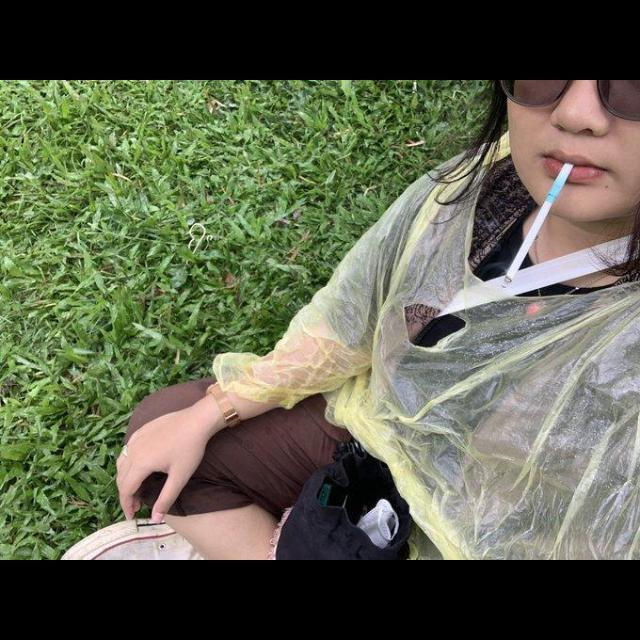rokok: (498, 156, 574, 290)
